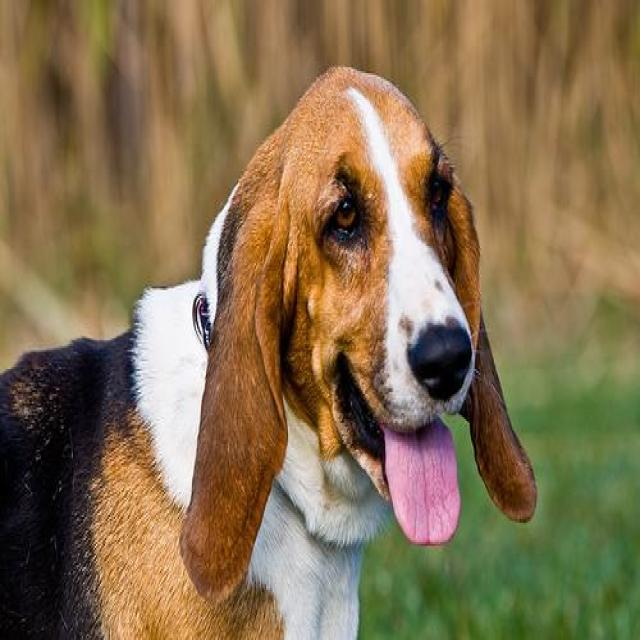basset: (0, 66, 535, 636)
